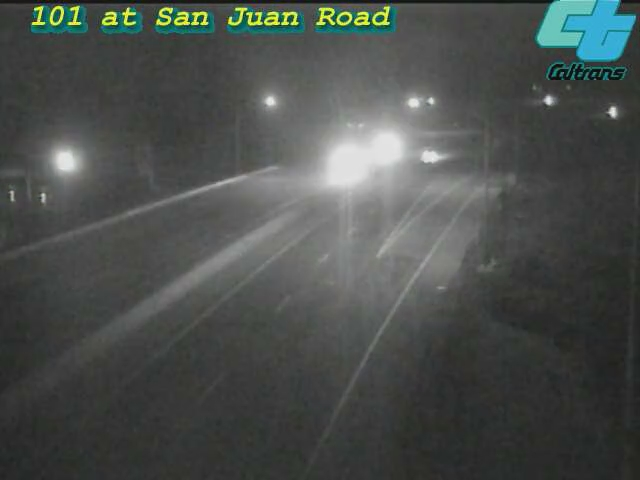vehicle: (307, 125, 387, 205), (344, 110, 424, 190), (391, 118, 471, 198), (590, 86, 640, 136)
